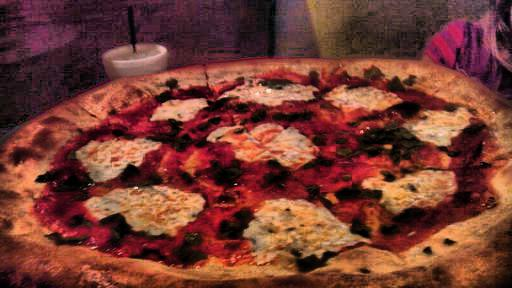pizza: (2, 56, 505, 288)
